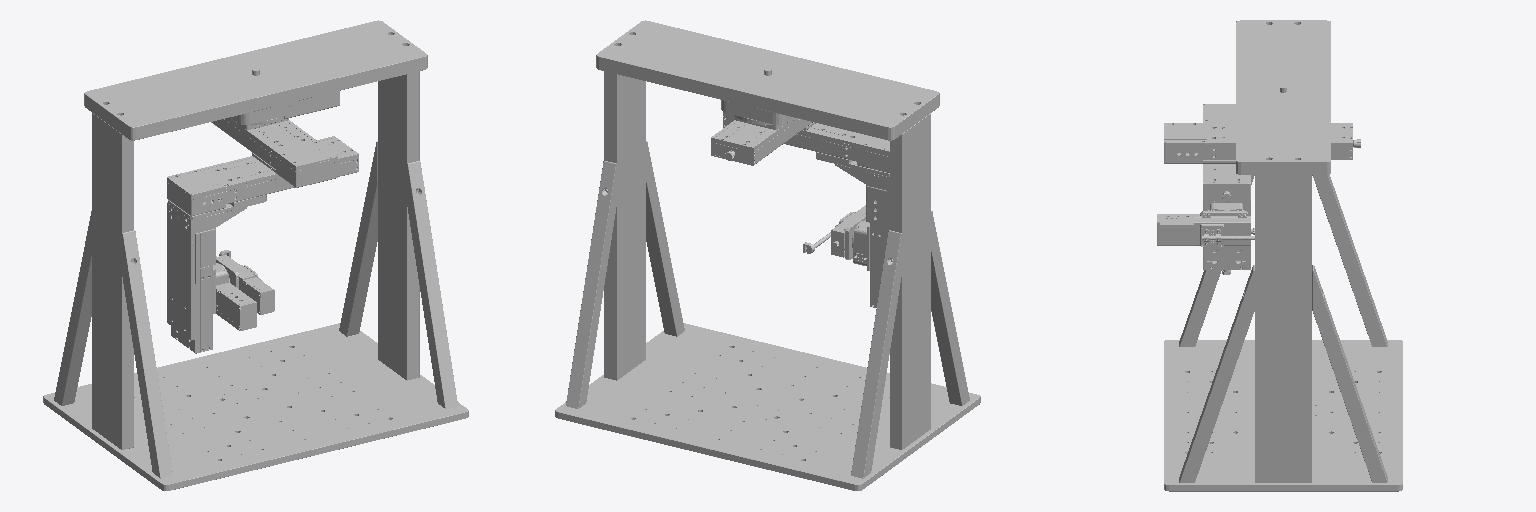
robot.urdf — SAMCS:
<?xml version="1.0" encoding="utf-8"?>
<robot name="SAMCS">

  <!-- 第一个连杆：基座框架 -->
  <link name="baselink_framework">
    <visual>
      <origin xyz="0 0 0" rpy="0 0 0" />
      <geometry>
        <mesh filename="meshes/baselink_framework.STL" />
      </geometry>
      <material name="6061">
        <color rgba="0.8 0.8 0.8 1" />
      </material>
    </visual>
  </link>

  <!-- 第二个连杆 -->
  <link name="link1_motor1_R">
    <visual>
      <origin xyz="0 0 0" rpy="0 0 0" />
      <geometry>
        <mesh filename="meshes/link1_motor1_R.STL" />
      </geometry>
      <material name="6061">
        <color rgba="0.8 0.8 0.8 1" />
      </material>
    </visual>
  </link>

  <!-- 第一个关节：固定关节 -->
  <joint name="joint1" type="fixed">
    <origin xyz="0 0 -0.0337" rpy="0 0 0" />
    <parent link="baselink_framework" />
    <child link="link1_motor1_R" />
    <axis xyz="0 0 0" />
  </joint>

  <!-- 第三个连杆 -->
  <link name="link2_motor2_Y">
    <visual>
      <origin xyz="0 0 0" rpy="0 0 0" />
      <geometry>
        <mesh filename="meshes/link2_motor2_Y.STL" />
      </geometry>
      <material name="6061">
        <color rgba="0.8 0.8 0.8 1" />
      </material>
    </visual>
  </link>

  <!-- 第二个关节：连续旋转关节 (R轴：绕Z轴) -->
  <joint name="joint2" type="continuous">
    <origin xyz="0 0 -0.03955" rpy="0 0 0" />
    <parent link="link1_motor1_R" />
    <child link="link2_motor2_Y" />
    <axis xyz="0 0 1" />
  </joint>

  <!-- 第四个连杆 -->
  <link name="link3_motor3_X">
    <visual>
      <origin xyz="0 0 0" rpy="0 0 0" />
      <geometry>
        <mesh filename="meshes/link3_motor3_X.STL" />
      </geometry>
      <material name="6061">
        <color rgba="0.8 0.8 0.8 1" />
      </material>
    </visual>
  </link>

  <!-- 第三个关节：移动关节 -->
  <joint name="joint3" type="prismatic">
    <origin xyz="0 -0.119 -0.06425" rpy="1.5708 0 -3.1416" />
    <parent link="link2_motor2_Y" />
    <child link="link3_motor3_X" />
    <axis xyz="0 0 1" />
    <limit lower="0" upper="0.2" effort="0" velocity="0" />
  </joint>

  <!-- 第五个连杆 -->
  <link name="link4_motor4_Z">
    <visual>
      <origin xyz="0 0 0" rpy="0 0 0" />
      <geometry>
        <mesh filename="meshes/link4_motor4_Z.STL" />
      </geometry>
      <material name="6061">
        <color rgba="0.8 0.8 0.8 1" />
      </material>
    </visual>
  </link>

  <!-- 第四个关节：移动关节 -->
  <joint name="joint4" type="prismatic">
    <origin xyz="0.11019 -0.049 0" rpy="1.5708 0 -1.5708" />
    <parent link="link3_motor3_X" />
    <child link="link4_motor4_Z" />
    <axis xyz="0 0 1" />
    <limit lower="0" upper="0.2" effort="0" velocity="0" />
  </joint>

  <!-- 第六个连杆 -->
  <link name="link5_motor5_P">
    <visual>
      <origin xyz="0 0 0" rpy="0 0 0" />
      <geometry>
        <mesh filename="meshes/link5_motor5_P.STL" />
      </geometry>
      <material name="6061">
        <color rgba="0.8 0.8 0.8 1" />
      </material>
    </visual>
  </link>

  <!-- 第五个关节：移动关节 -->
  <joint name="joint5" type="prismatic">
    <origin xyz="0.189 0 -0.087813" rpy="1.5708 0 1.5708" />
    <parent link="link4_motor4_Z" />
    <child link="link5_motor5_P" />
    <axis xyz="0 0 1" />
    <limit lower="0" upper="0.075" effort="0" velocity="0" />
  </joint>

  <!-- 第七个连杆 -->
  <link name="link6_motor6_I">
    <visual>
      <origin xyz="0 0 0" rpy="0 0 0" />
      <geometry>
        <mesh filename="meshes/link6_motor6_I.STL" />
      </geometry>
      <material name="6061">
        <color rgba="0.8 0.8 0.8 1" />
      </material>
    </visual>
  </link>

  <!-- 第六个关节：旋转关节 -->
  <joint name="joint6" type="revolute">
    <origin xyz="0 0.04705 0.005" rpy="1.5708 0 -3.1416" />
    <parent link="link5_motor5_P" />
    <child link="link6_motor6_I" />
    <axis xyz="0 0 -1" />
    <limit lower="0" upper="1.5708" effort="0" velocity="0" />
  </joint>

  <!-- 第八个连杆 -->
  <link name="link7_clamp">
    <visual>
      <origin xyz="0 0 0" rpy="0 0 0" />
      <geometry>
        <mesh filename="meshes/link7_clamp.STL" />
      </geometry>
      <material name="6061">
        <color rgba="0.8 0.8 0.8 1" />
      </material>
    </visual>
  </link>

  <!-- 第七个关节：移动关节 -->
  <joint name="joint7" type="prismatic">
    <origin xyz="0.0546 0 0.04586" rpy="1.5708 0 -1.5708" />
    <parent link="link6_motor6_I" />
    <child link="link7_clamp" />
    <axis xyz="0 0 1" />
    <limit lower="0" upper="0.05" effort="0" velocity="0" />
  </joint>

  <!-- 第九个连杆：工具末端坐标系 -->
  <link name="Probe">
    <visual>
      <origin xyz="0 0 0" rpy="0 0 0" />
      <geometry>
        <mesh filename="meshes/Probe.STL" />
      </geometry>
      <material name="6061">
        <color rgba="0.8 0.8 0.8 1" />
      </material>
    </visual>
  </link>

  <!-- 第八个关节：固定关节 -->
  <joint name="joint8" type="fixed">
    <origin xyz="0 0.02364 0.1697" rpy="0 0 0" />
    <parent link="link7_clamp" />
    <child link="Probe" />
    <axis xyz="0 0 0" />
  </joint>

</robot>

--- Render facts (derived) ---
Views: 3 orthographic renders of the robot side by side, from view 1: azimuth 30°, elevation 25°; view 2: azimuth 150°, elevation 25°; view 3: azimuth 270°, elevation 25°.
Model SAMCS with 9 links and 8 joints (1 revolute, 1 continuous, 4 prismatic, 2 fixed), rooted at baselink_framework, posed all joints at 0.
Links seen in each view (by area): view 1: baselink_framework, link4_motor4_Z, link3_motor3_X, link2_motor2_Y, link5_motor5_P, link1_motor1_R, link6_motor6_I; view 2: baselink_framework, link4_motor4_Z, link2_motor2_Y, link3_motor3_X, link6_motor6_I, link1_motor1_R, link5_motor5_P; view 3: baselink_framework, link2_motor2_Y, link3_motor3_X, link6_motor6_I, link4_motor4_Z, link5_motor5_P, link7_clamp.
Link boxes in pixels (left/top/right/bottom): baselink_framework: left=43, top=20, right=468, bottom=490; link4_motor4_Z: left=167, top=195, right=266, bottom=353; link3_motor3_X: left=167, top=136, right=358, bottom=215; link2_motor2_Y: left=211, top=117, right=337, bottom=187; link5_motor5_P: left=213, top=263, right=256, bottom=330; link1_motor1_R: left=230, top=91, right=339, bottom=124; link6_motor6_I: left=216, top=255, right=274, bottom=314; baselink_framework: left=555, top=20, right=980, bottom=490; link4_motor4_Z: left=816, top=152, right=889, bottom=307; link2_motor2_Y: left=711, top=115, right=812, bottom=165; link3_motor3_X: left=723, top=112, right=889, bottom=172; link6_motor6_I: left=831, top=205, right=865, bottom=259; link1_motor1_R: left=721, top=100, right=793, bottom=124; link5_motor5_P: left=852, top=220, right=869, bottom=270; baselink_framework: left=1164, top=20, right=1402, bottom=491; link2_motor2_Y: left=1164, top=123, right=1360, bottom=163; link3_motor3_X: left=1203, top=104, right=1250, bottom=201; link6_motor6_I: left=1160, top=211, right=1254, bottom=245; link4_motor4_Z: left=1203, top=208, right=1250, bottom=274; link5_motor5_P: left=1157, top=201, right=1250, bottom=245; link7_clamp: left=1200, top=224, right=1254, bottom=246.
Size in the robot's own frame: 0.72 by 0.515 by 0.765 metres.
9 mesh visuals loaded from 9 distinct referenced files (9 binary STL).
